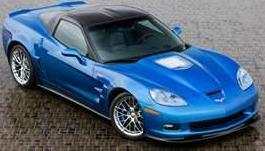front_view: (143, 66, 262, 144)
headlight: (146, 86, 191, 109)
side_glass: (50, 17, 90, 60)
